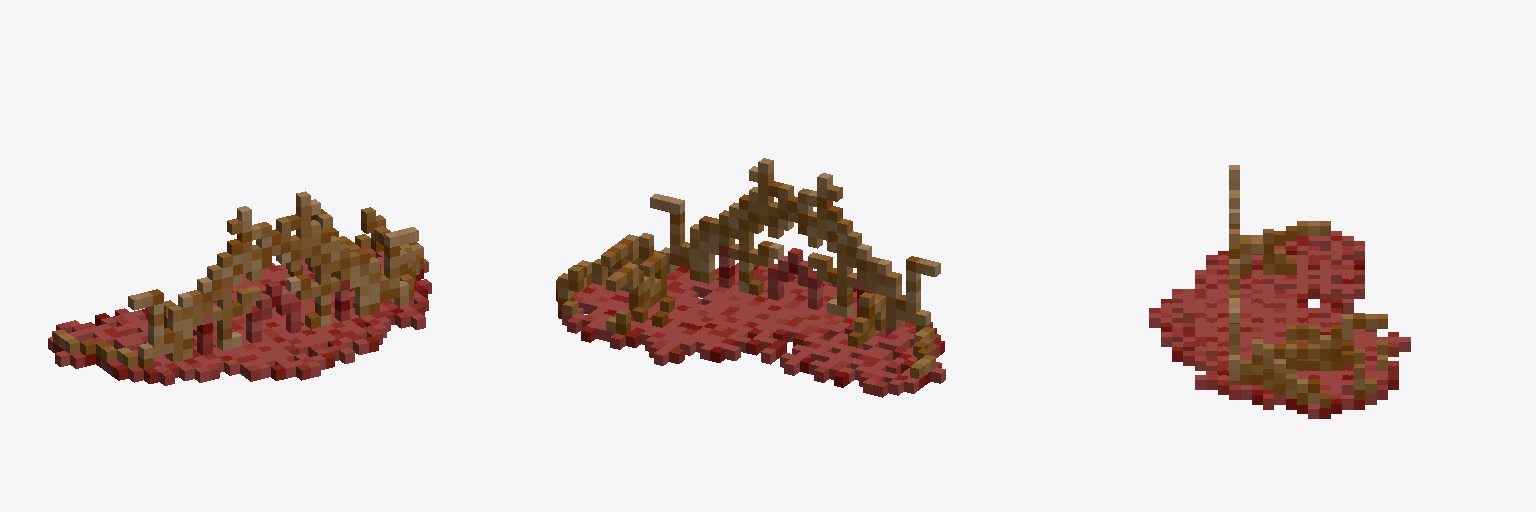
3 renders of one model, left to right at view 1: azimuth 30°, elevation 25°; view 2: azimuth 150°, elevation 25°; view 3: azimuth 270°, elevation 25°, orthographic.
Parts seen in each view (by area): view 1: temple.002; view 2: temple.002; view 3: temple.002.
Boxes of the visible parts, x1,y1,x2,y2 form: temple.002: [48, 191, 431, 385]; temple.002: [556, 158, 945, 397]; temple.002: [1149, 165, 1410, 418].
Size of the model in its own units: 3.8 by 1.4 by 2.3.
Materials: 1 (1 with a texture image).